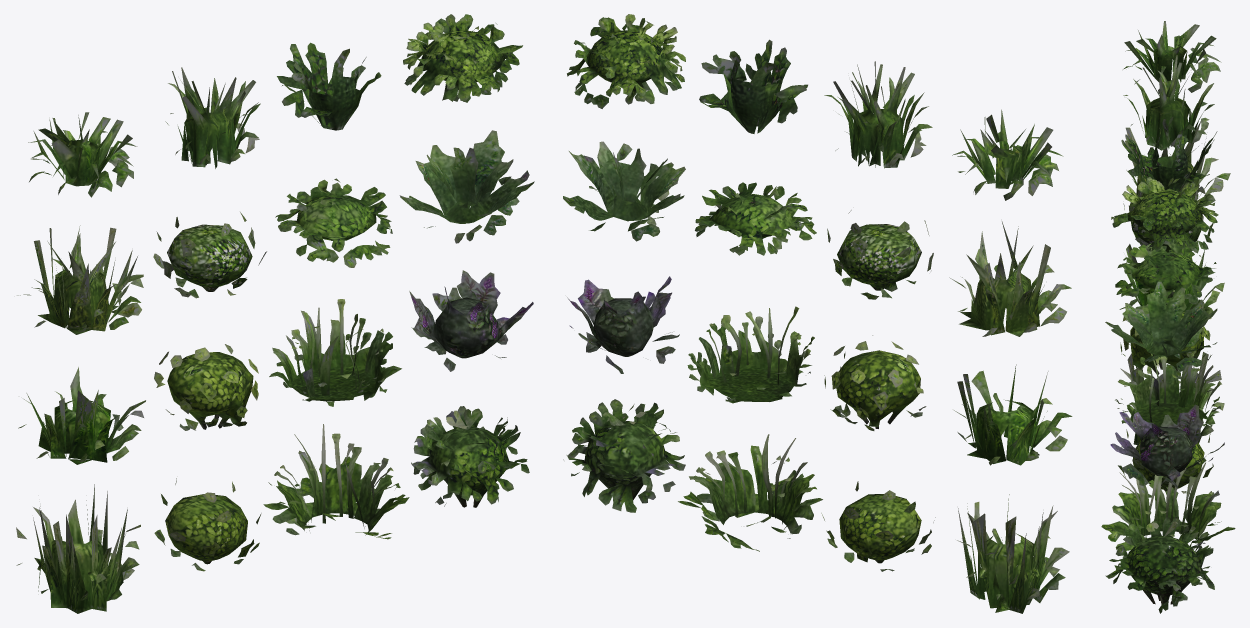
The model's file is grassBushes.glb.
3 renders of one model, left to right at view 1: azimuth 30°, elevation 25°; view 2: azimuth 150°, elevation 25°; view 3: azimuth 270°, elevation 25°, orthographic. The views are drawn at different scales.
Visible parts, largest first — view 1: tripo_5fe65307_f3bc_42dc_9af6_3dac1a5853a4; view 2: tripo_5fe65307_f3bc_42dc_9af6_3dac1a5853a4; view 3: tripo_5fe65307_f3bc_42dc_9af6_3dac1a5853a4.
Boxes of the visible parts, x1,y1,x2,y2 form: tripo_5fe65307_f3bc_42dc_9af6_3dac1a5853a4: (16, 14, 534, 613); tripo_5fe65307_f3bc_42dc_9af6_3dac1a5853a4: (563, 14, 1072, 613); tripo_5fe65307_f3bc_42dc_9af6_3dac1a5853a4: (1101, 21, 1235, 613).
Bounding box in the file's own units: 0.9995 × 0.9536 × 0.27.
1 material, 1 textured.
